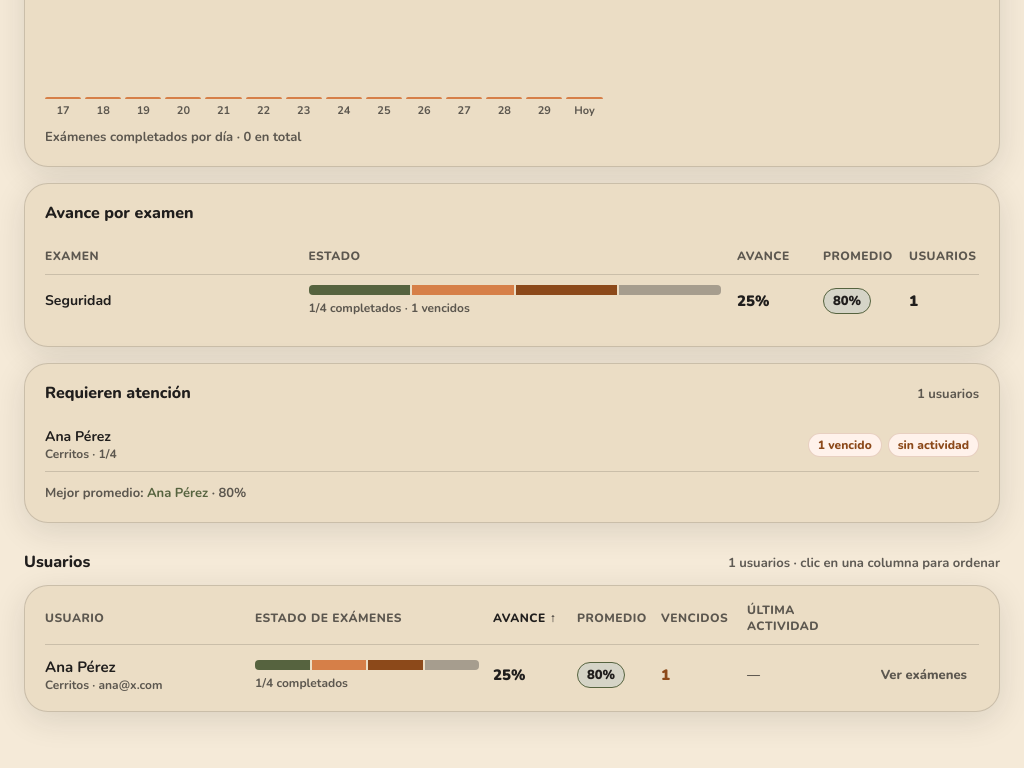
Scenario: AdminDashboardView › expands a usuario to list quizzes with Spanish status and score
(page scrolled)
Check: the text "Higiene" is not shown
Click the button with test id "toggle-u1": (924, 675) x1=869 y1=660 x2=979 y2=690
(page scrolled)
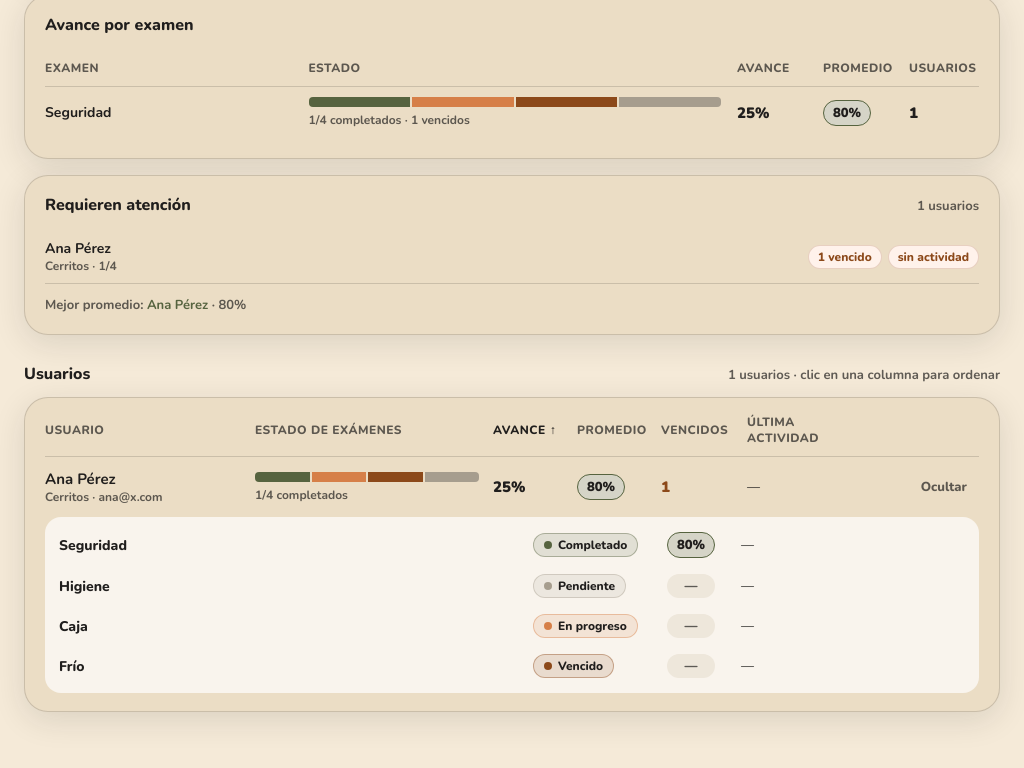
Check: the text "Seguridad" is shown, box x1=45 y1=103 x2=112 y2=122
Check: the element with test id "score-as1" reads "80%", box x1=677 y1=536 x2=705 y2=554
Check: the element with test id "score-as2" reads "—", box x1=684 y1=577 x2=698 y2=595
